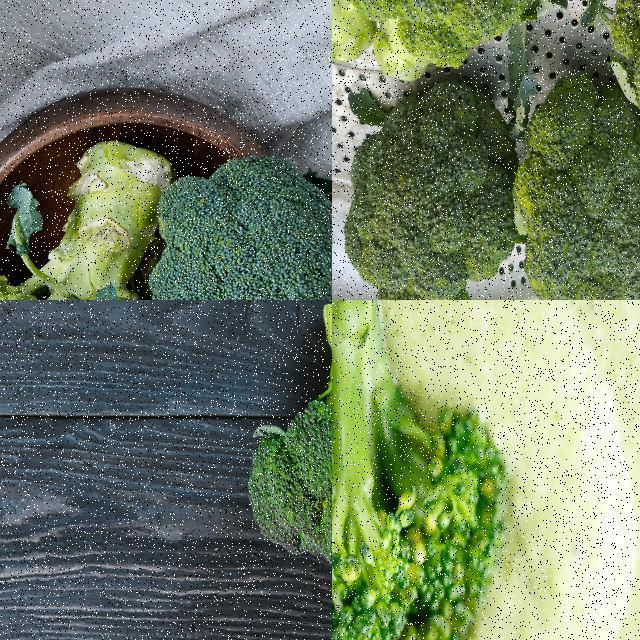broccoli: (332, 300, 513, 639), (339, 82, 516, 299), (518, 69, 639, 299), (0, 143, 176, 299), (153, 152, 331, 299), (240, 300, 331, 582), (337, 0, 535, 77)
